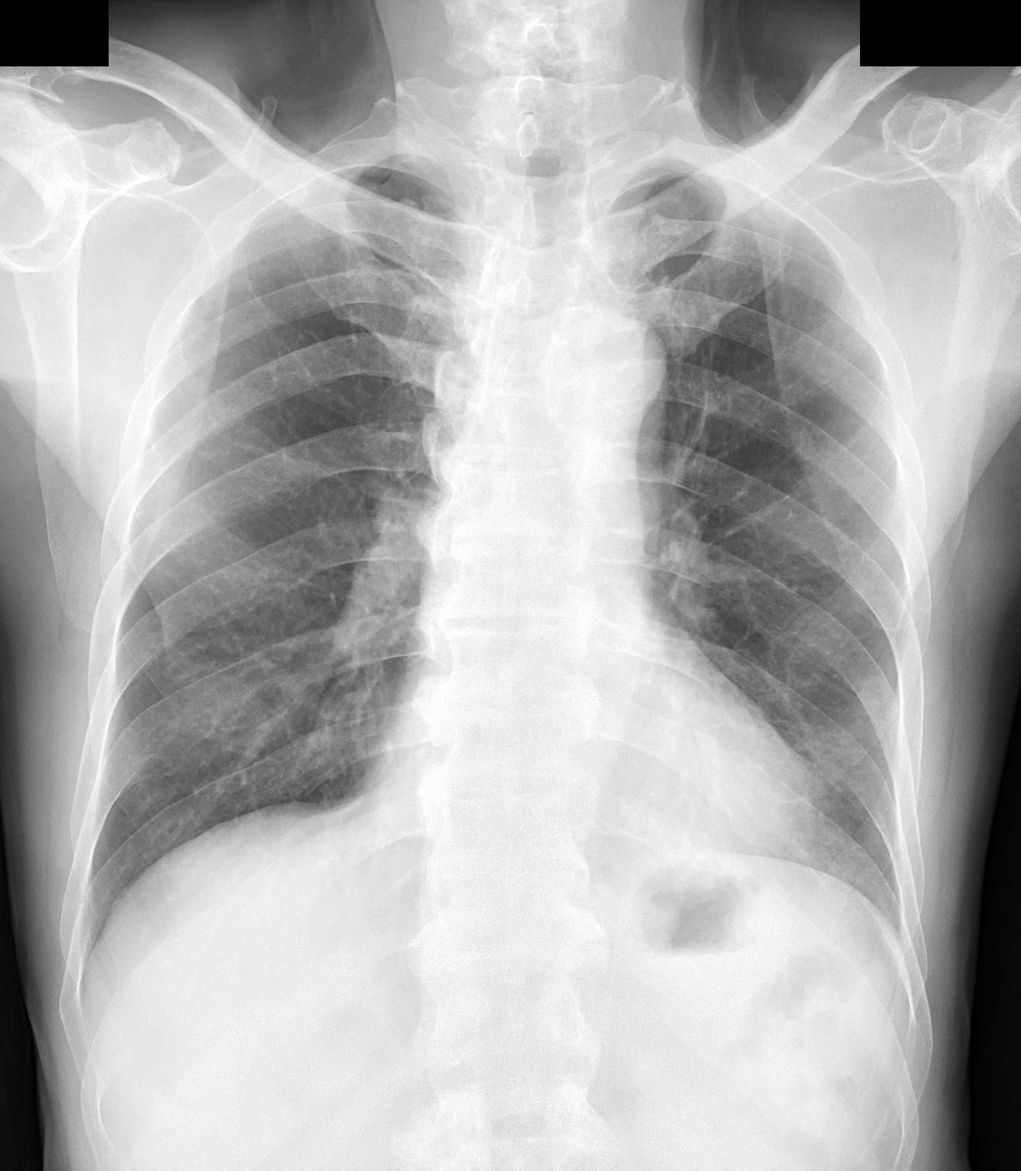Aortic enlargement: (541, 310, 667, 425)
Cardiomegaly: (361, 708, 820, 863)
Pleural thickening: (607, 160, 726, 203)
